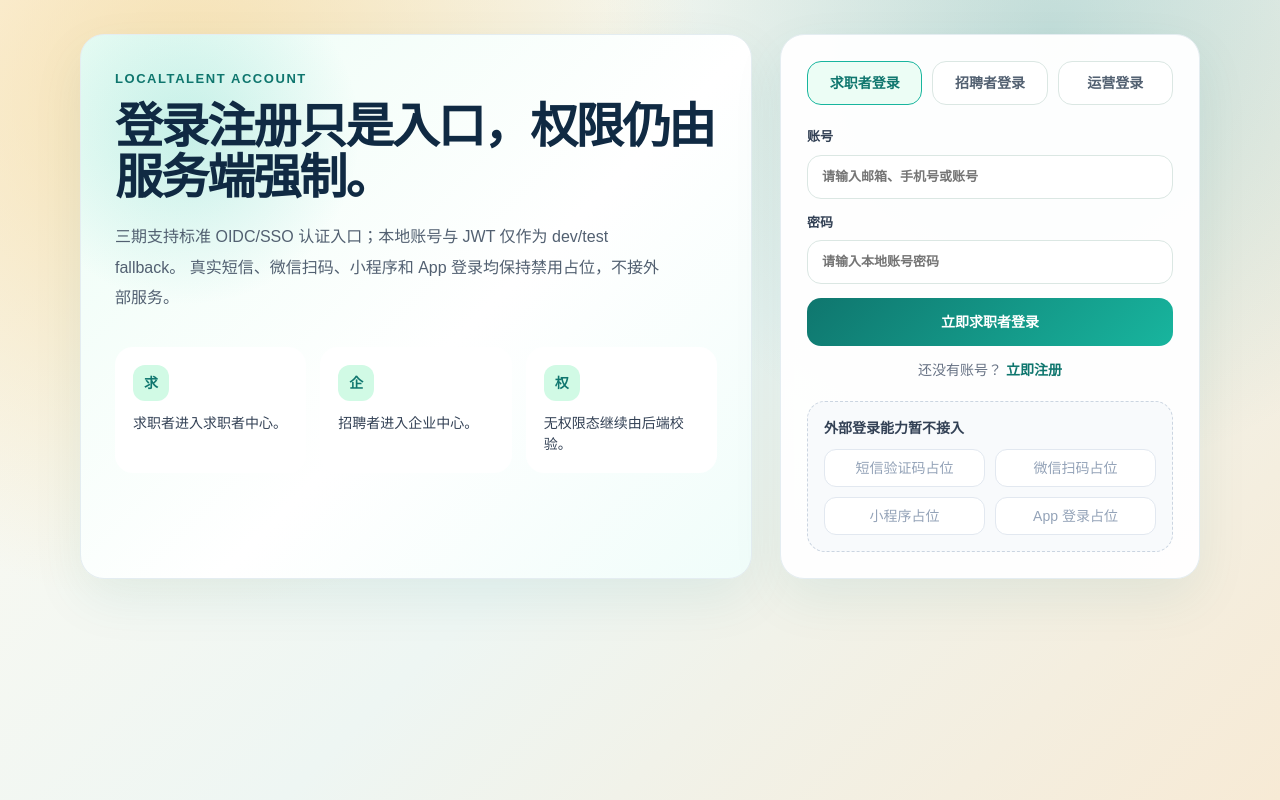
Test: AuthPage › shows unified auth error with trace id without bypassing permissions
Type "candidate@example.com" into the field labelled "账号" at [990, 176], box 807,154 -> 1173,198
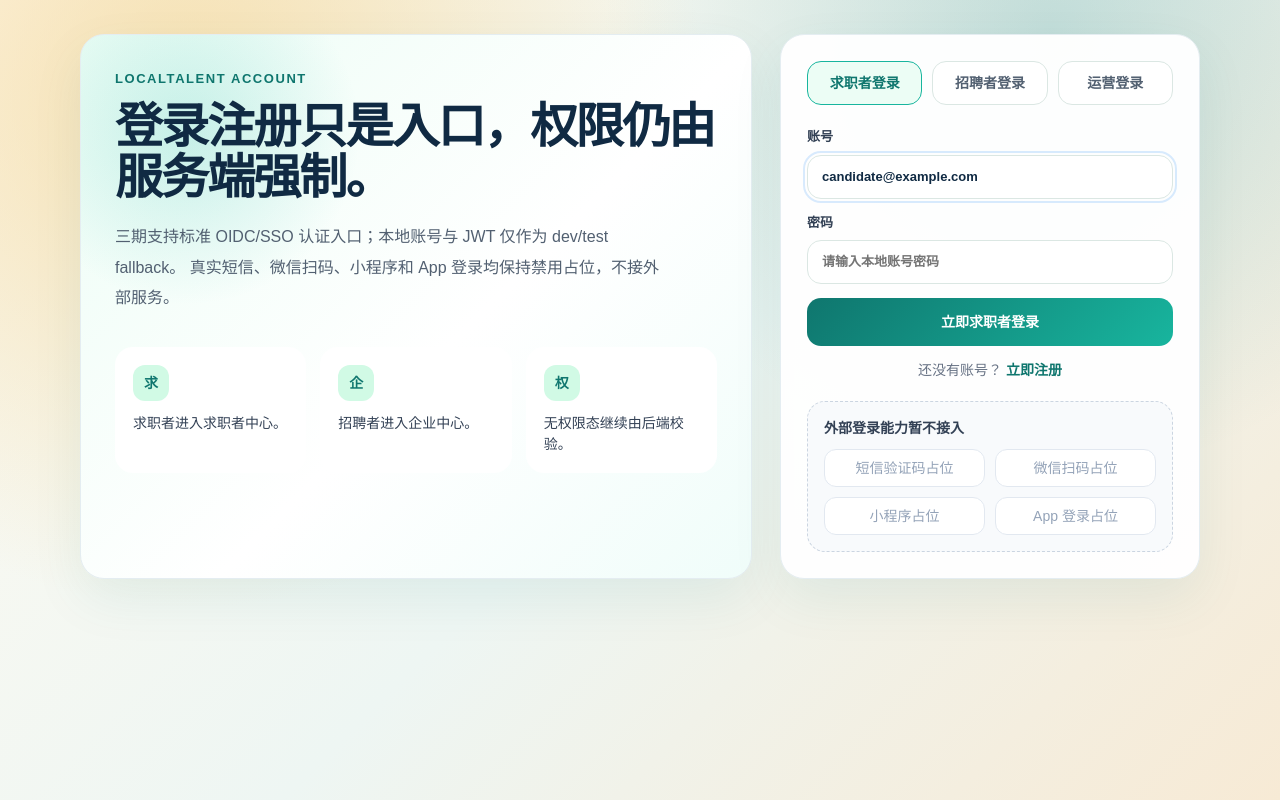
Type "Wrong@123456" into the password field labelled "密码" at [990, 262], box 807,240 -> 1173,284
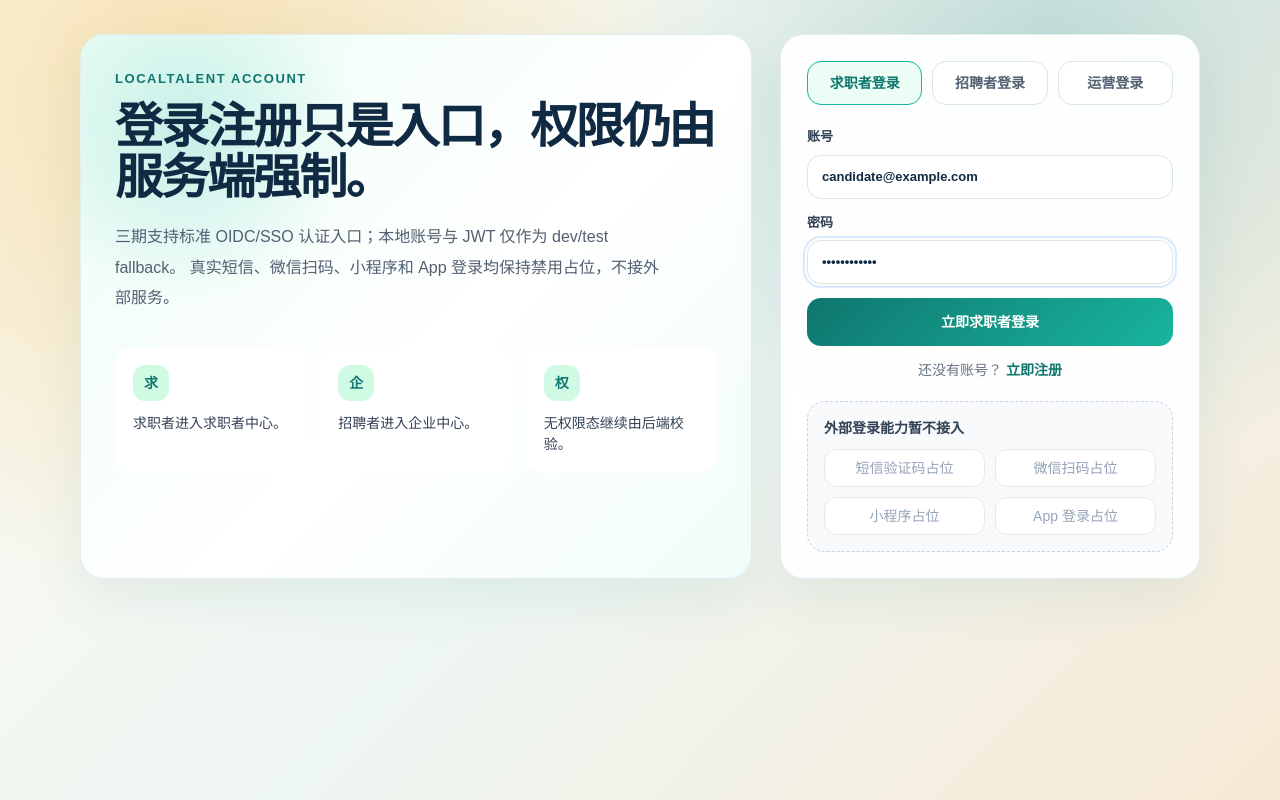
Click the button "立即求职者登录" at [990, 322], box 807,298 -> 1173,346
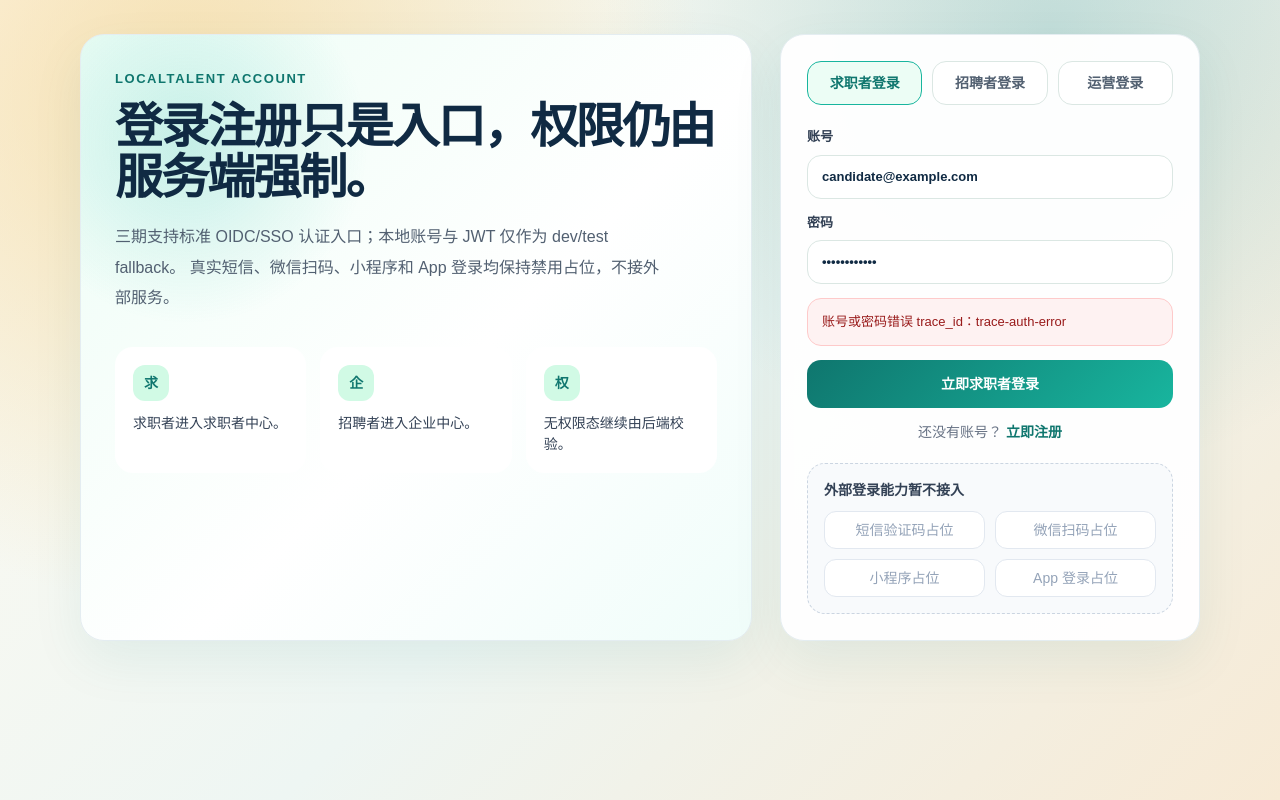
Check: the text "账号或密码错误 trace_id：trace-auth-error" is shown, box 807,298 -> 1173,346
